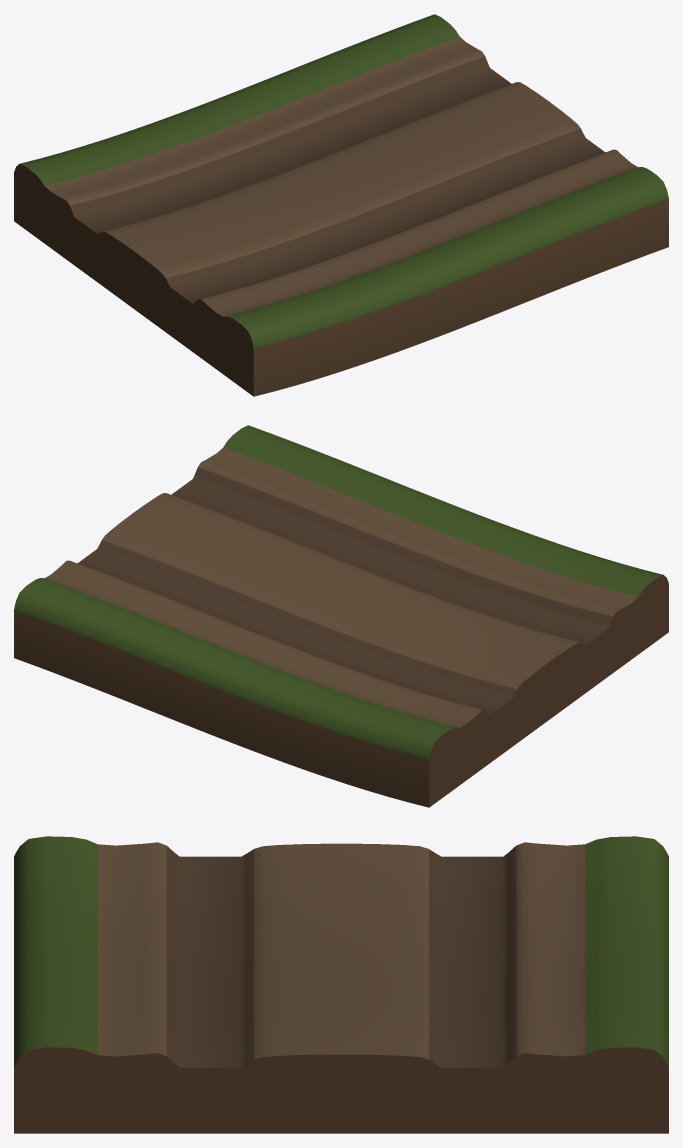
3 views of the same model, one above another, from view 1: azimuth 30°, elevation 25°; view 2: azimuth 150°, elevation 25°; view 3: azimuth 270°, elevation 25° (orthographic). The views are drawn at different scales.
Visible parts, largest first — view 1: d0o; view 2: d0o; view 3: d0o.
Part boxes in pixels (<box>): d0o: <box>14,14,668,396</box>; d0o: <box>14,425,668,807</box>; d0o: <box>14,836,668,1133</box>.
Bounding box in the file's own units: 9 × 2.31 × 9.
